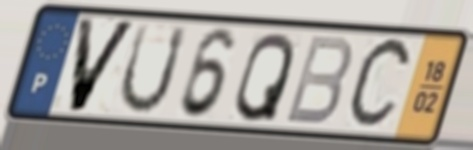6: (177, 25, 240, 122)
B: (281, 32, 356, 128)
C: (342, 33, 417, 136)
Q: (231, 30, 298, 126)
U: (116, 21, 191, 117)
V: (67, 14, 142, 115)
